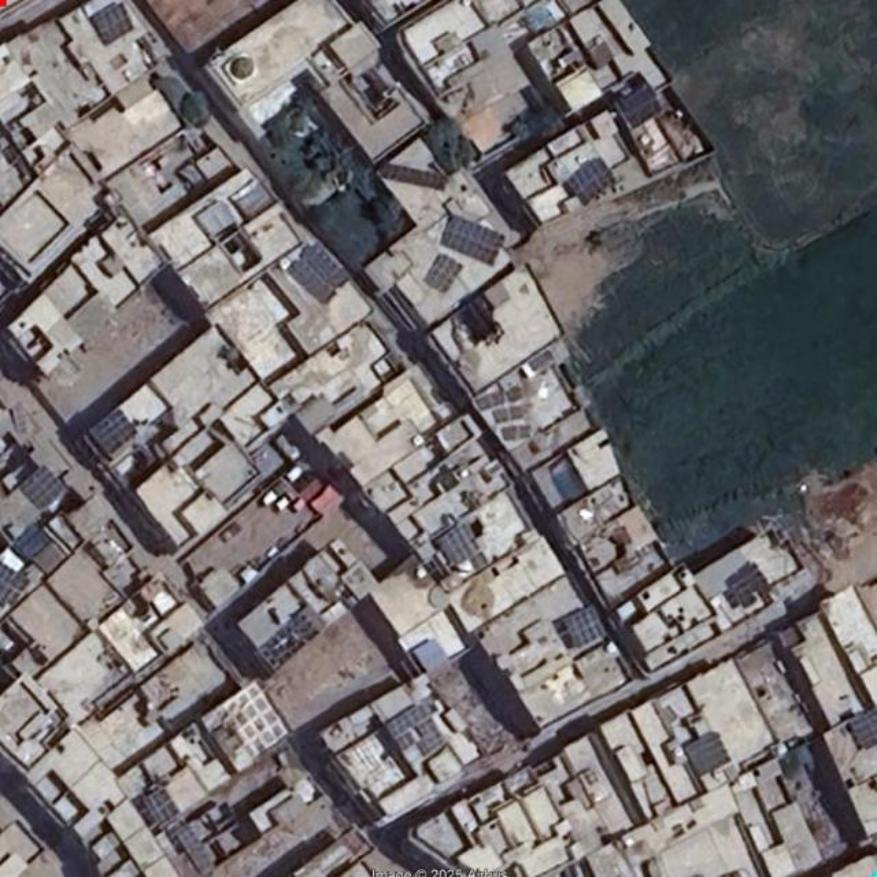Solarpanel: (288, 242, 347, 302), (441, 218, 505, 264), (567, 157, 617, 205), (87, 411, 137, 455), (617, 82, 664, 126), (91, 2, 135, 46), (22, 466, 64, 511), (382, 163, 447, 191), (175, 825, 210, 870), (564, 608, 603, 646), (0, 558, 27, 609), (424, 257, 462, 292), (442, 523, 476, 561), (846, 708, 876, 748), (733, 570, 766, 605), (146, 790, 176, 823)
